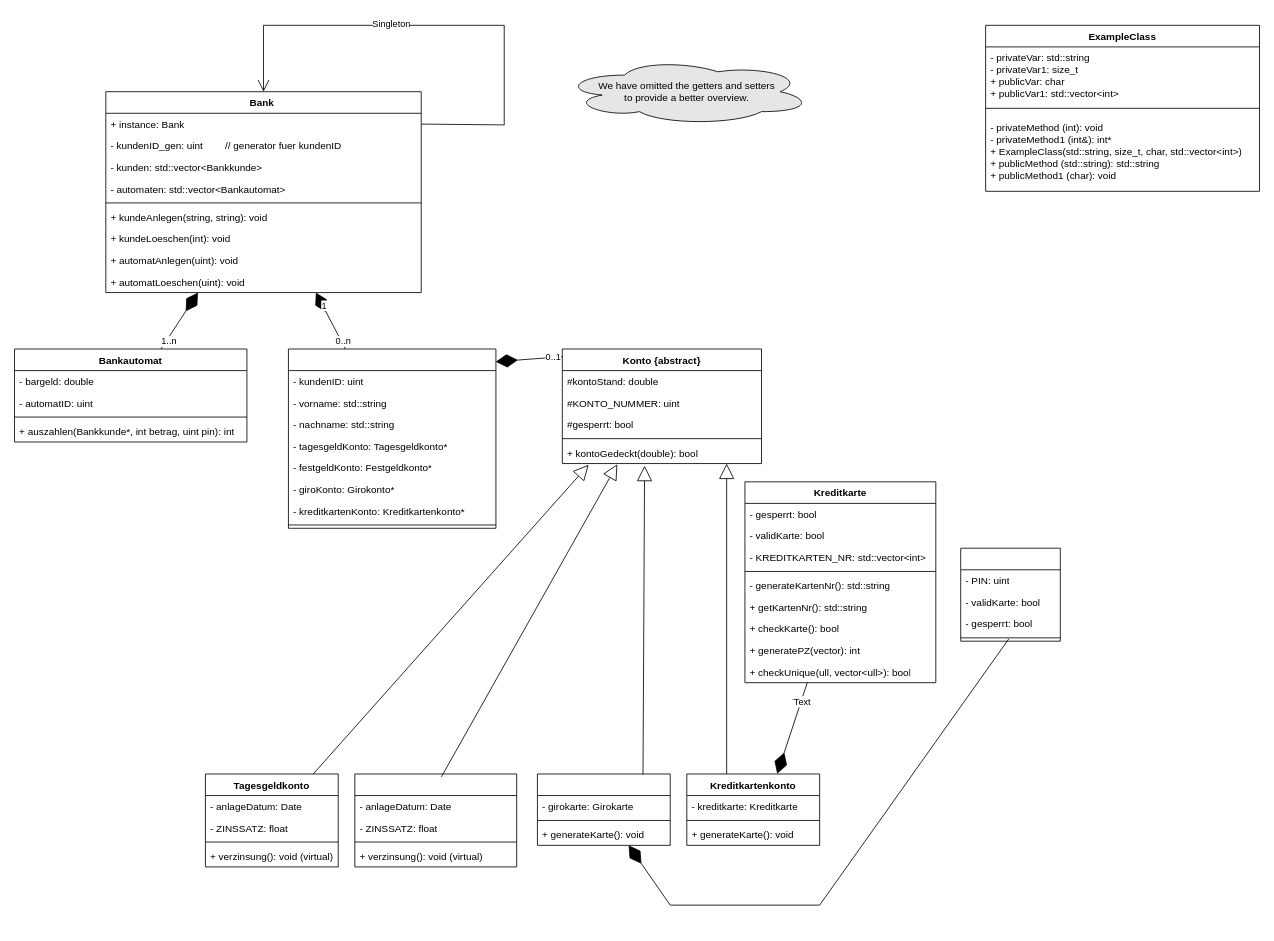
Image size: 1274x941. Some labels were removed from this diagram. The shapes that lost their labels are listed below. From the top down, each one's box as (x1, y1, x2, y2) in pixels, then its label:
(288, 348, 496, 528): Bankkunde
(960, 547, 1060, 641): Girokarte
(354, 773, 517, 867): Festgeldkonto
(537, 773, 670, 845): Girokonto
